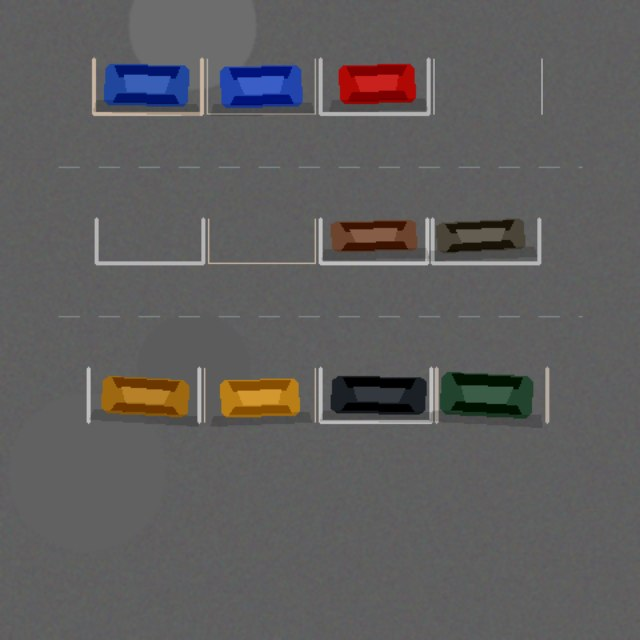space-empty: (433, 59, 541, 113), (96, 219, 203, 263), (208, 219, 315, 263)
space-occupied: (88, 368, 199, 421), (204, 368, 315, 421), (320, 368, 431, 421), (436, 368, 547, 421), (93, 59, 201, 113), (207, 59, 315, 113), (320, 59, 428, 113), (320, 219, 427, 263), (432, 219, 539, 263)
